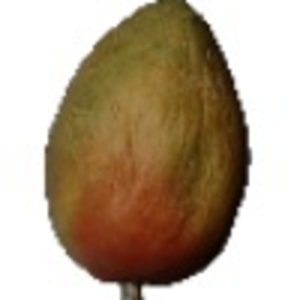mamão: (39, 3, 257, 292)
